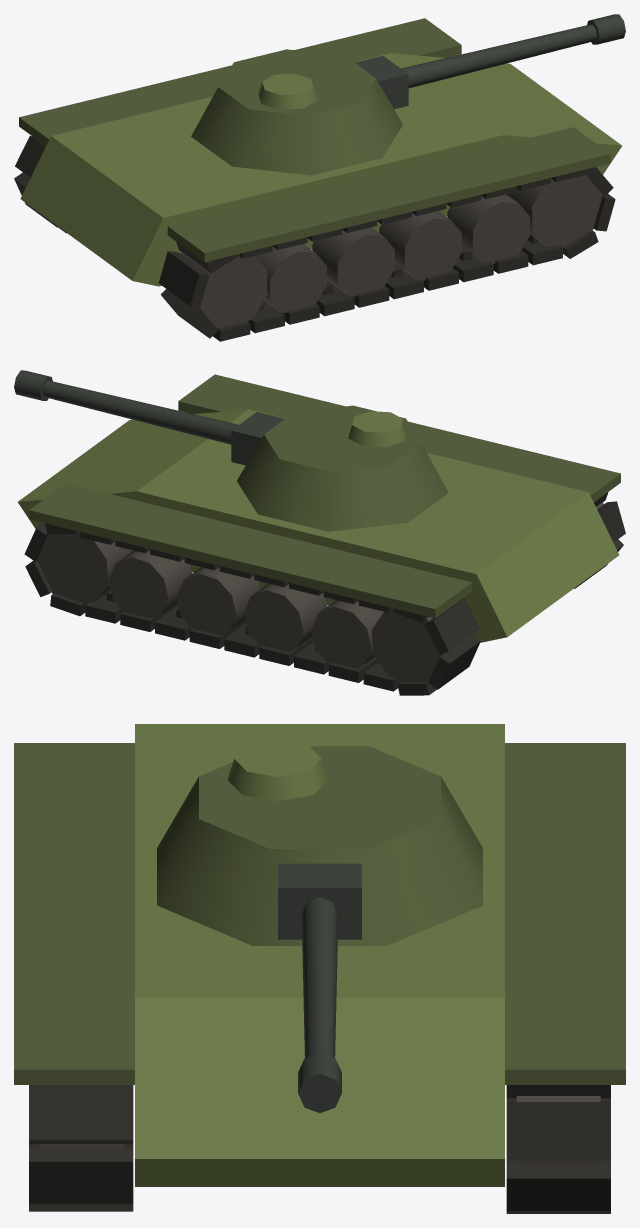
The model's file is low-poly-tank.glb.
The picture shows the model from 3 angles, top to bottom: view 1: azimuth 30°, elevation 25°; view 2: azimuth 150°, elevation 25°; view 3: azimuth 270°, elevation 25°; orthographic projection. The views are drawn at different scales.
Parts seen in each view (by area): view 1: hull, guard_right, turret_body, track_right, guard_left, track_right_sprocket_front, barrel, track_right_sprocket_rear, track_right_link_24, hatch, mantlet, track_right_link_25 (+15 smaller); view 2: hull, guard_left, turret_body, track_left, guard_right, track_left_sprocket_front, barrel, track_left_sprocket_rear, hatch, track_left_link_23, mantlet, track_left_link_24 (+15 smaller); view 3: hull, turret_body, guard_left, guard_right, track_left_link_11, track_right_link_12, track_right_link_11, barrel, track_left_link_10, mantlet, hatch, muzzle (+3 smaller).
Part boxes in pixels (<box>): hull: <box>20,53,621,286</box>; guard_right: <box>167,127,610,262</box>; turret_body: <box>191,49,402,175</box>; track_right: <box>255,194,529,312</box>; guard_left: <box>19,18,461,145</box>; track_right_sprocket_front: <box>507,175,602,247</box>; barrel: <box>401,24,597,88</box>; track_right_sprocket_rear: <box>181,252,267,328</box>; track_right_link_24: <box>159,251,209,307</box>; hatch: <box>258,73,317,109</box>; mantlet: <box>355,56,408,109</box>; track_right_link_25: <box>160,289,218,338</box>; hull: <box>18,409,619,642</box>; guard_left: <box>29,483,471,618</box>; turret_body: <box>237,405,448,531</box>; track_left: <box>108,550,383,668</box>; guard_right: <box>178,374,620,502</box>; track_left_sprocket_front: <box>37,532,132,603</box>; barrel: <box>42,380,238,444</box>; track_left_sprocket_rear: <box>371,610,445,681</box>; hatch: <box>348,411,406,447</box>; track_left_link_23: <box>424,598,480,654</box>; mantlet: <box>231,412,284,465</box>; track_left_link_24: <box>428,634,480,689</box>; hull: <box>135,724,504,1186</box>; turret_body: <box>157,746,482,945</box>; guard_left: <box>505,743,625,1084</box>; guard_right: <box>14,743,134,1084</box>; track_left_link_11: <box>506,1101,610,1159</box>; track_right_link_12: <box>29,1085,133,1144</box>; track_right_link_11: <box>29,1148,133,1203</box>; barrel: <box>301,897,338,1106</box>; track_left_link_10: <box>506,1162,610,1210</box>; mantlet: <box>278,863,361,939</box>; hatch: <box>227,740,328,800</box>; muzzle: <box>298,1052,341,1113</box>.
Bounding box in the file's own units: 6.15 × 1.84 × 3.64.
